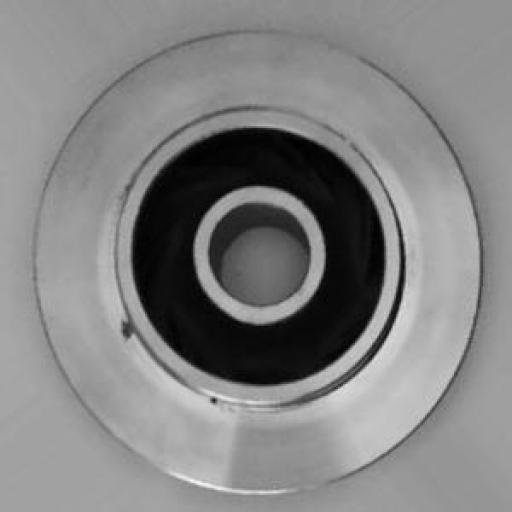defect: (102, 303, 296, 428)
